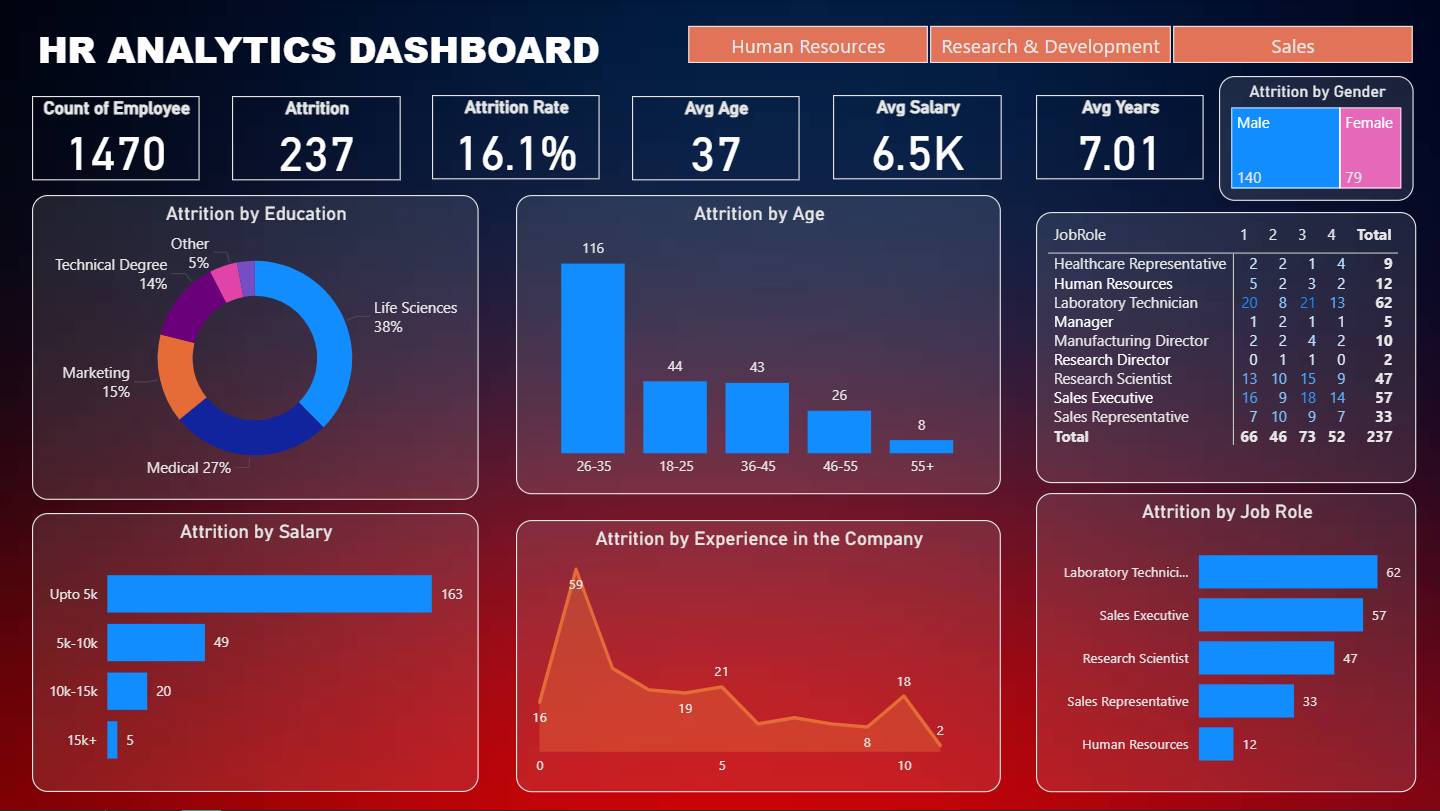

What the dashboard file says about the page in this screenshot:
{"tool":"powerbi","page":{"name":"Page 1","canvas":[1280,720],"ordinal":0},"visuals":[{"type":"card","title":"Count of Employee","fields":{"Values":["CountNonNull(HR_Analytics.EmpID)"]},"box":[28.4,85.3,149.3,74.7],"z":0},{"type":"card","title":"Attrition","fields":{"Values":["Sum(HR_Analytics.Attrition Count)"]},"box":[206.2,85.6,149.8,74.9],"z":1000},{"type":"card","title":"Attrition Rate","fields":{"Values":["HR_Analytics.Attrition_rate"]},"box":[384.2,84.6,148.8,74.9],"z":2000},{"type":"card","title":"Avg Age","fields":{"Values":["Avg(HR_Analytics.Age)"]},"box":[562.2,85.6,148.8,74.9],"z":3000},{"type":"card","title":"Avg Salary","fields":{"Values":["Avg(HR_Analytics.MonthlyIncome)"]},"box":[740.2,84.6,149.8,74.9],"z":4000},{"type":"card","title":"Avg Years ","fields":{"Values":["Avg(HR_Analytics.YearsAtCompany)"]},"box":[921.1,84.6,148.8,74.9],"z":5000},{"type":"donutChart","title":"Attrition by Education","fields":{"Category":["HR_Analytics.EducationField"],"Y":["Sum(HR_Analytics.Attrition Count)"]},"box":[28.2,173.1,396.8,271.4],"z":6000},{"type":"columnChart","title":"Attrition by Age","fields":{"Category":["HR_Analytics.AgeGroup"],"Y":["Sum(HR_Analytics.Attrition Count)"]},"box":[459.1,173.1,430.9,265.5],"z":7000},{"type":"pivotTable","fields":{"Rows":["HR_Analytics.JobRole"],"Columns":["HR_Analytics.JobSatisfaction"],"Values":["Sum(HR_Analytics.Attrition Count)"]},"box":[921.1,188.7,338.5,241.2],"z":8000},{"type":"barChart","title":"Attrition by Salary","fields":{"Category":["HR_Analytics.SalarySlab"],"Y":["Sum(HR_Analytics.Attrition Count)"]},"box":[28.2,456.2,396.8,248],"z":9000},{"type":"barChart","title":"Attrition by Job Role","fields":{"Y":["Sum(HR_Analytics.Attrition Count)"],"Category":["HR_Analytics.JobRole"]},"box":[921.1,438.7,338.5,265.5],"z":10000},{"type":"areaChart","title":"Attrition by Experience in the Company","fields":{"Category":["HR_Analytics.YearsAtCompany"],"Y":["Sum(HR_Analytics.Attrition Count)"]},"box":[459.1,462,430.9,242.2],"z":11000},{"type":"treemap","title":"Attrition by Gender","fields":{"Group":["HR_Analytics.Gender"],"Values":["Sum(HR_Analytics.Attrition Count)"]},"box":[1083.5,67.1,173.1,110.9],"z":12000},{"type":"slicer","fields":{"Values":["HR_Analytics.Department"]},"box":[585.5,15.6,694.5,41.8],"z":13000},{"type":"textbox","box":[28.2,15.6,534,55.4],"z":14000}]}

Visuals, with their boxes in screenshot pixels (x1, y1, x2, y2), scaled from the page's 1280x720 canvas onto the 1440x811 screenshot:
"Count of Employee" card: bbox(32, 96, 200, 180)
"Attrition" card: bbox(232, 96, 400, 181)
"Attrition Rate" card: bbox(432, 95, 600, 180)
"Avg Age" card: bbox(632, 96, 800, 181)
"Avg Salary" card: bbox(833, 95, 1001, 180)
"Avg Years " card: bbox(1036, 95, 1204, 180)
"Attrition by Education" donutChart: bbox(32, 195, 478, 501)
"Attrition by Age" columnChart: bbox(516, 195, 1001, 494)
pivotTable - HR_Analytics.JobRole x HR_Analytics.JobSatisfaction: bbox(1036, 213, 1417, 484)
"Attrition by Salary" barChart: bbox(32, 514, 478, 793)
"Attrition by Job Role" barChart: bbox(1036, 494, 1417, 793)
"Attrition by Experience in the Company" areaChart: bbox(516, 520, 1001, 793)
"Attrition by Gender" treemap: bbox(1219, 76, 1414, 200)
slicer - HR_Analytics.Department: bbox(659, 18, 1439, 65)
textbox: bbox(32, 18, 632, 80)
